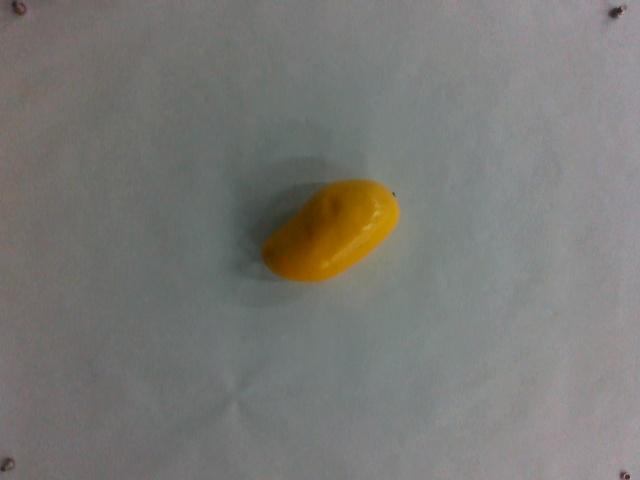mango: (257, 175, 401, 285)
